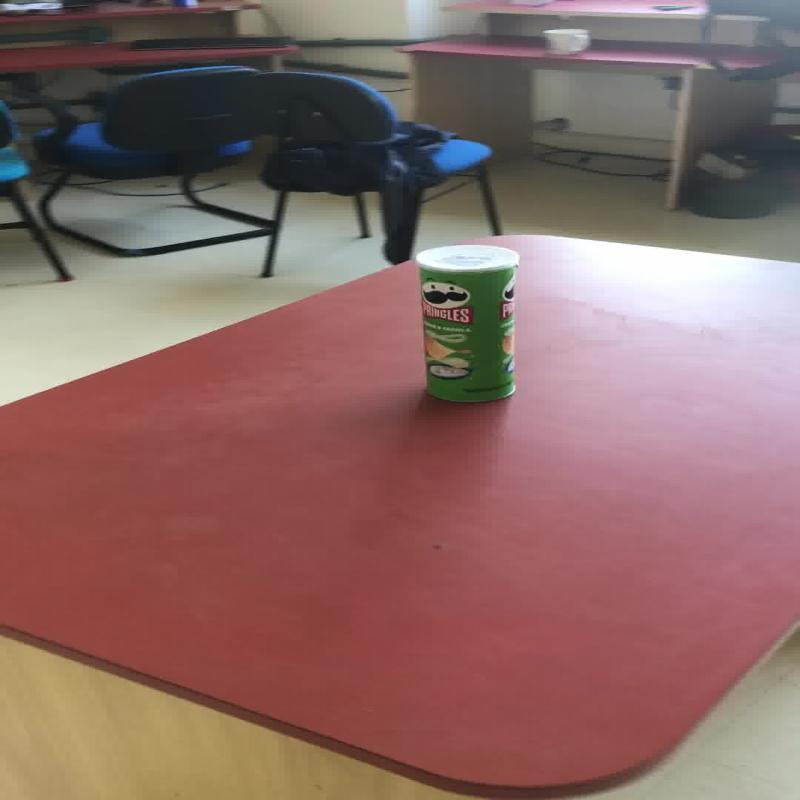pringles: (414, 243, 518, 402)
